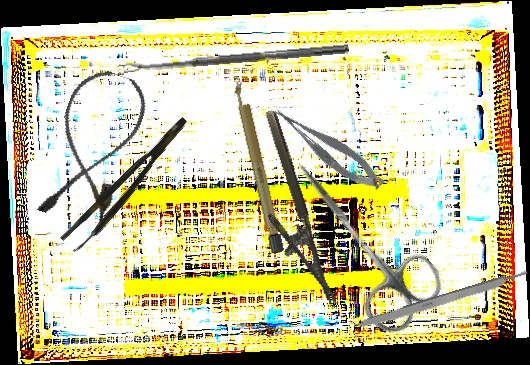Cannula: (32, 62, 154, 233)
Iris Scissors: (264, 139, 453, 342)
Micro Scissor: (270, 93, 388, 202)
Needle Holder: (239, 108, 337, 316)
Scalpel Handle: (353, 268, 530, 334), (231, 77, 286, 255)
Surgical Spoon: (122, 43, 350, 73)
Tissue Forceps: (58, 114, 200, 256)
